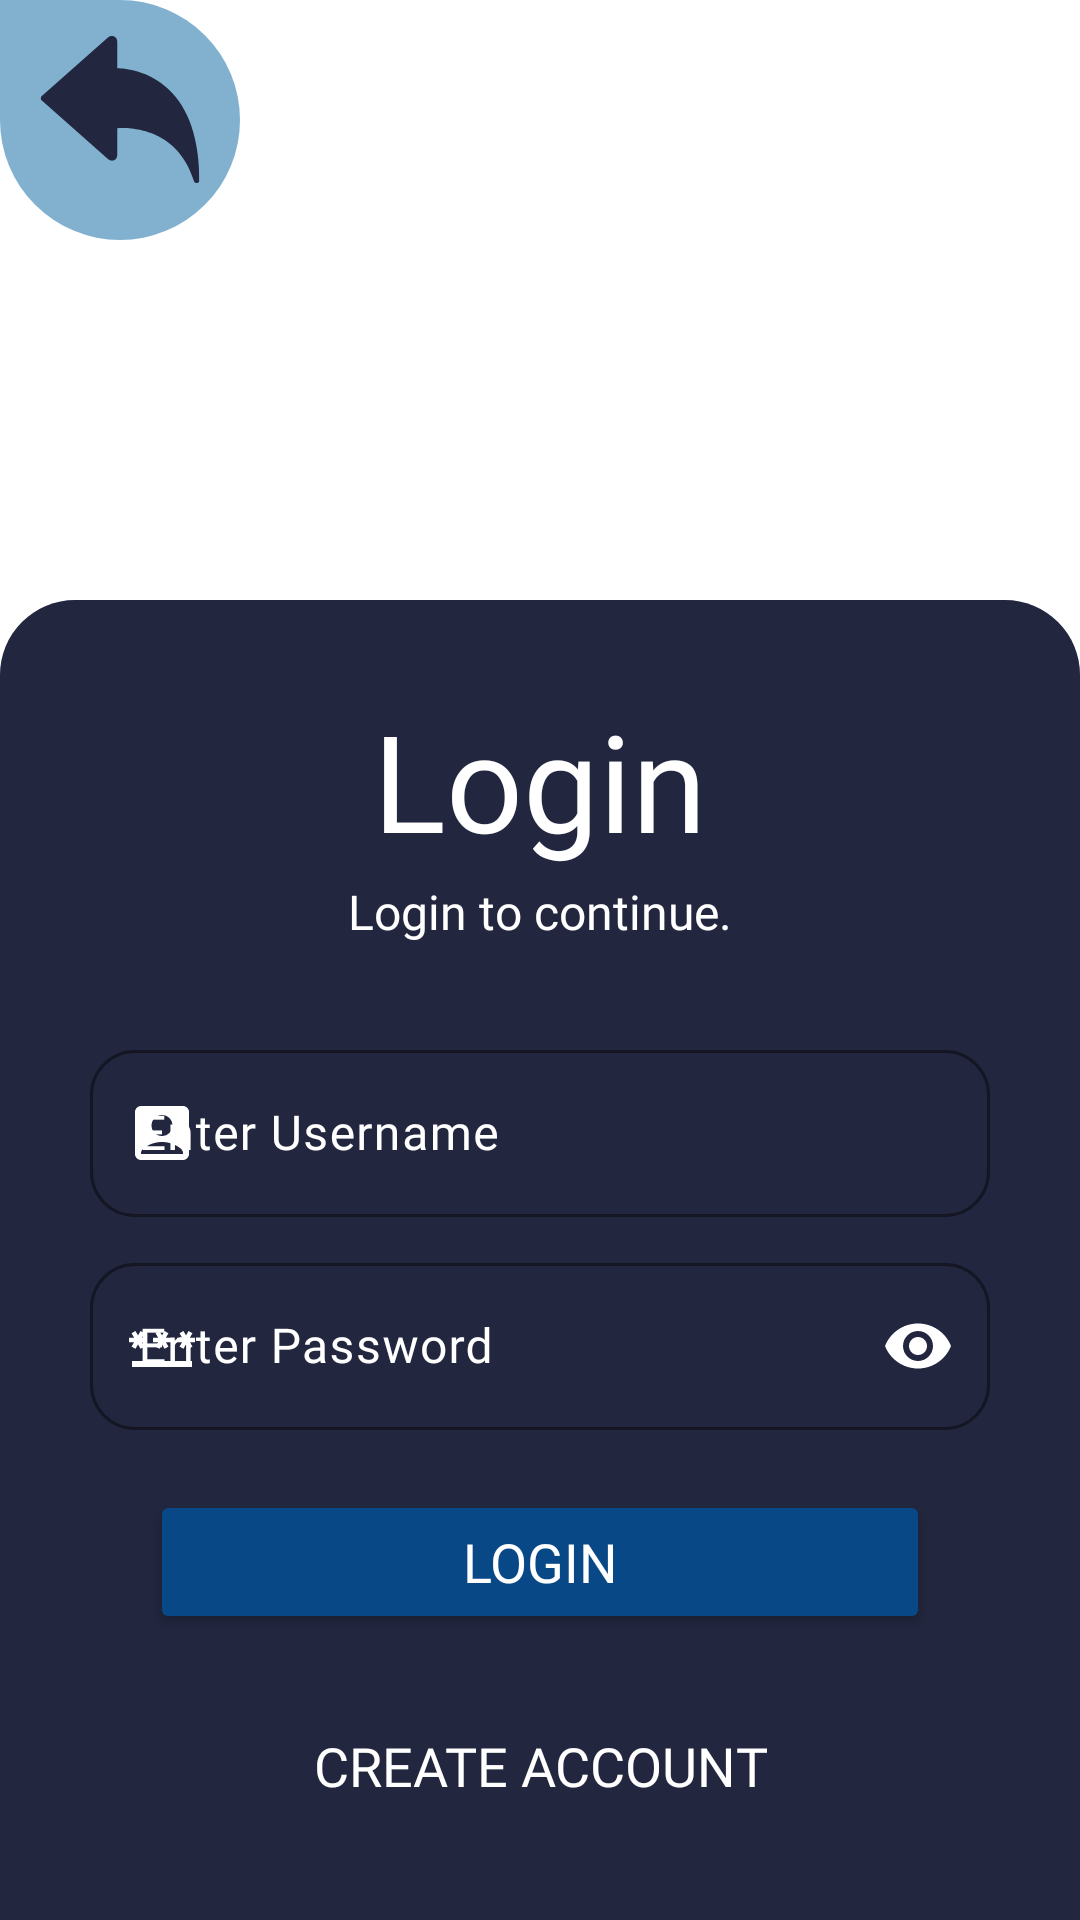

Screen size 1080px×1920px. Icon name, then its box in pixels as bbox(x1, y1, x2, y2):
back: bbox(41, 36, 199, 183)
